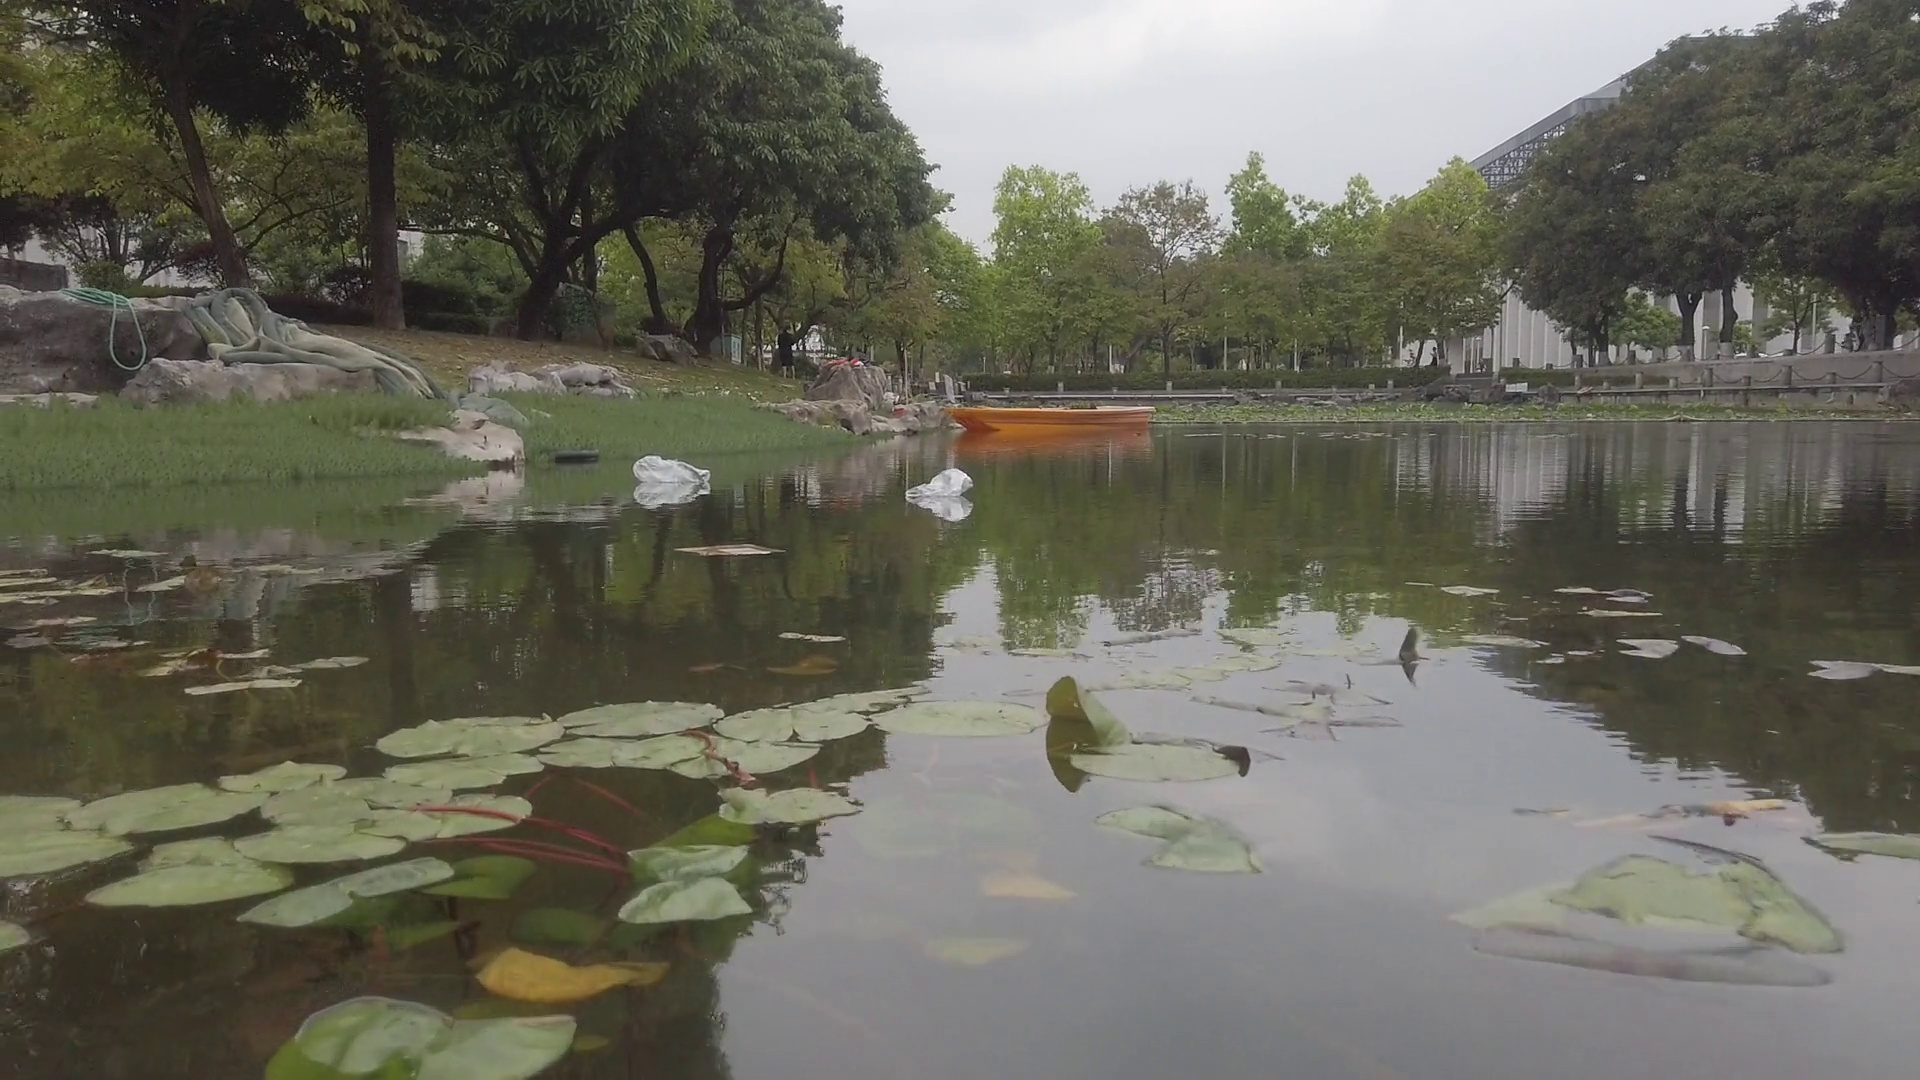paper: (673, 535, 789, 559)
plastic: (632, 458, 711, 487), (905, 469, 972, 497)
